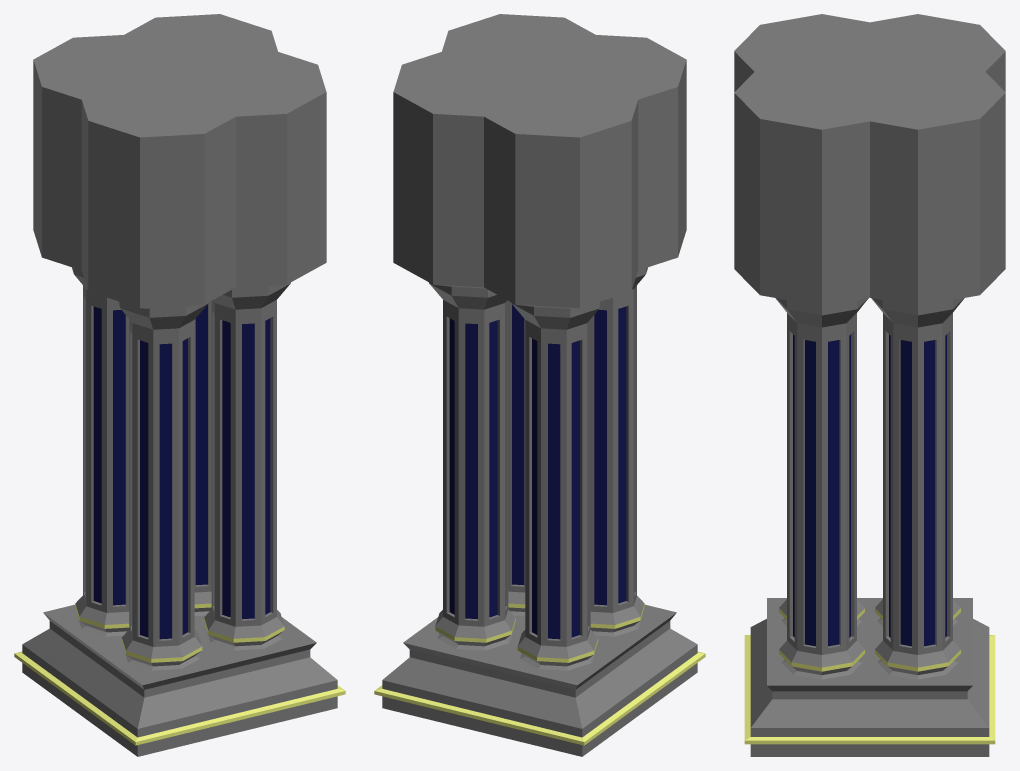
Rendered from temple_quadrapillier.fbx.
3 views of the same model, side by side, from view 1: azimuth 30°, elevation 25°; view 2: azimuth 150°, elevation 25°; view 3: azimuth 270°, elevation 25° (orthographic). The views are drawn at different scales.
Visible parts, largest first — view 1: pillar quadra; view 2: pillar quadra; view 3: pillar quadra.
Boxes of the visible parts, box(x1,y1,x2,y2) form: pillar quadra: box(14, 14, 345, 756); pillar quadra: box(374, 14, 705, 756); pillar quadra: box(734, 14, 1005, 756).
Bounding box in the file's own units: 104 × 265 × 103.
